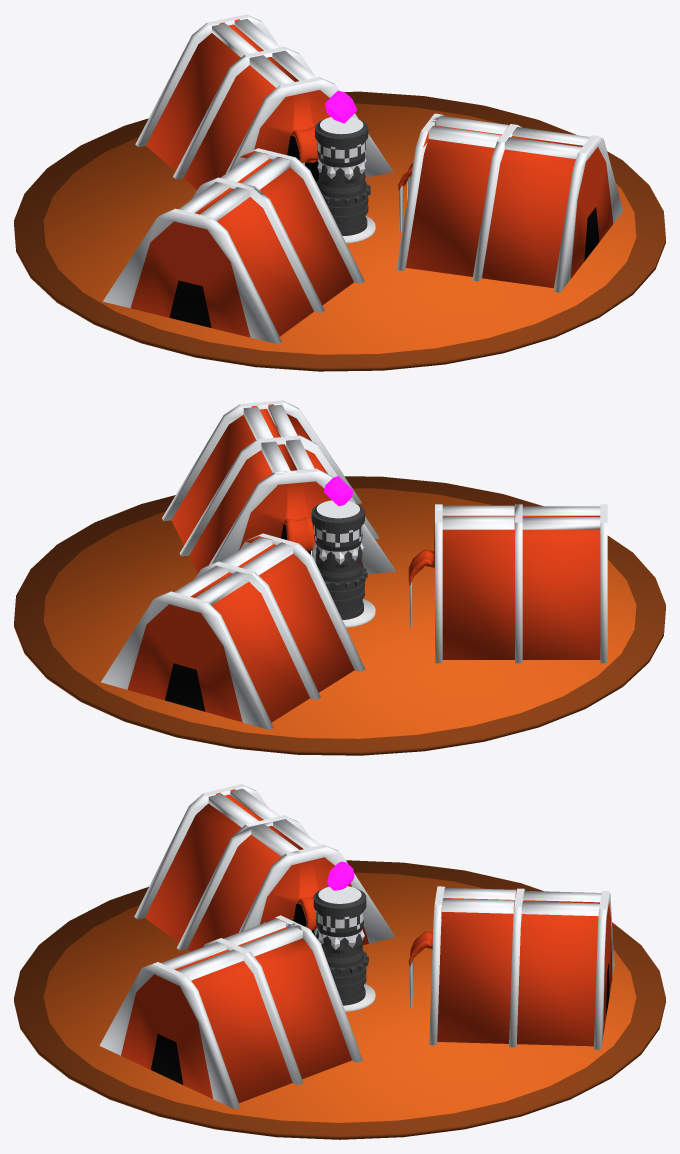
Rendered from PontoDeUpgradeDanabaFinal.fbx.
3 views of the same model, one above another, from view 1: azimuth 30°, elevation 25°; view 2: azimuth 150°, elevation 25°; view 3: azimuth 270°, elevation 25° (orthographic).
Parts seen in each view (by area): view 1: Cylinder.002; view 2: Cylinder.002; view 3: Cylinder.002.
Part boxes in pixels (x1,y1,x2,y2): Cylinder.002: (14,14,665,371); Cylinder.002: (14,400,665,755); Cylinder.002: (14,784,665,1139).
Size of the model in its own units: 2167 by 581 by 2167.
